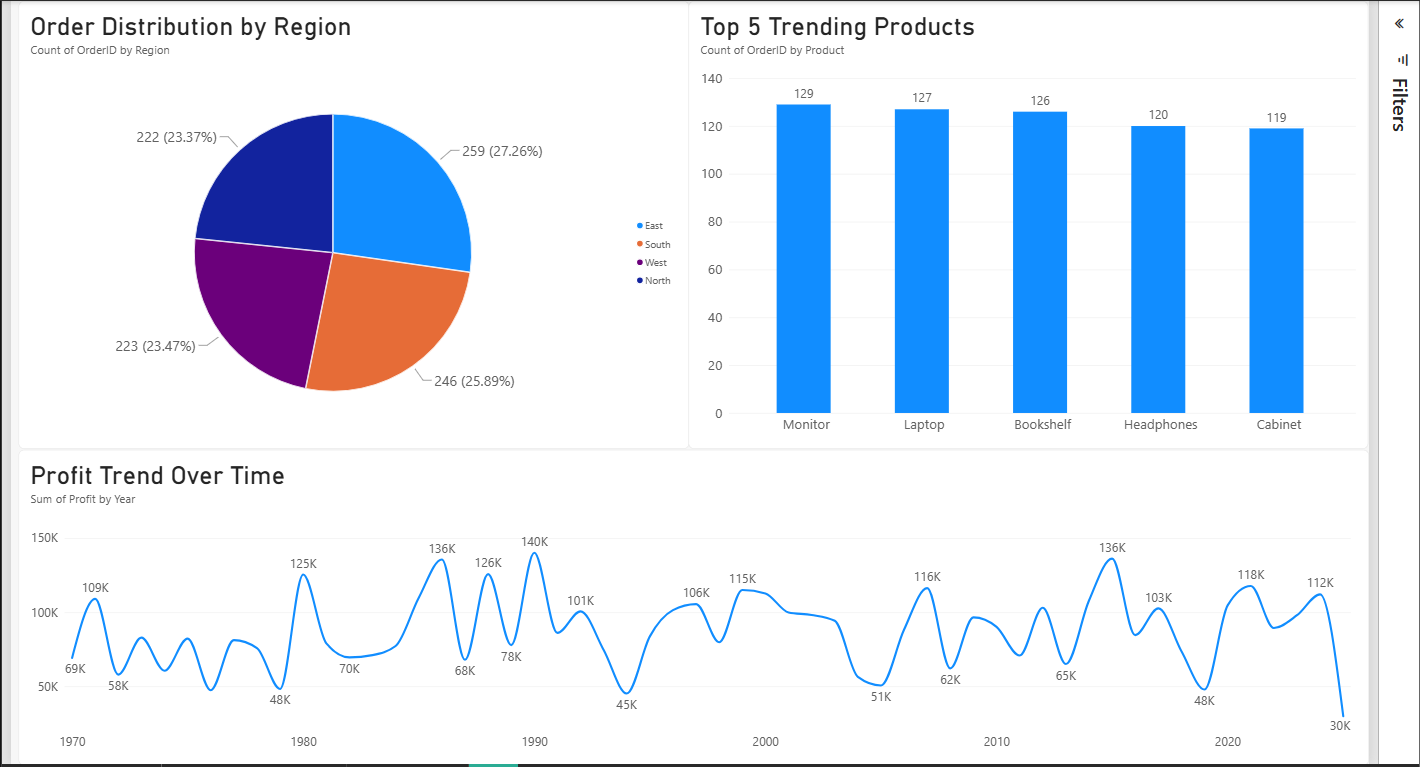

The page's visual inventory and layout, read from the dashboard file:
{"tool":"powerbi","page":{"name":"Visuals and Insights","canvas":[1920,1080],"ordinal":0},"visuals":[{"type":"pieChart","title":"Order Distribution by Region","fields":{"Category":["SalesData_1000Rows_WithIssues_copy.Region"],"Y":["CountNonNull(SalesData_1000Rows_WithIssues_copy.OrderID)"]},"box":[10.3,0,948.9,634],"z":0},{"type":"clusteredColumnChart","title":"Top 5 Trending Products","fields":{"Category":["SalesData_1000Rows_WithIssues_copy.Product"],"Y":["CountNonNull(SalesData_1000Rows_WithIssues_copy.OrderID)"]},"box":[959.2,0,961.2,634],"z":1},{"type":"lineChart","title":"Profit Trend Over Time","fields":{"Category":["SalesData_1000Rows_WithIssues_copy.OrderDate.Variation.Date Hierarchy.Year"],"Y":["Sum(SalesData_1000Rows_WithIssues_copy.Profit)"]},"box":[10.3,634,1910.1,446.7],"z":2}]}

Visuals, with their boxes on the page's 1920x1080 design canvas (x1, y1, x2, y2). These are canvas units, not pixel positions in the 1420x767 screenshot, which may show the page scaled, cropped or inside an application window:
"Order Distribution by Region" pieChart: {"x1": 10, "y1": 0, "x2": 959, "y2": 634}
"Top 5 Trending Products" clusteredColumnChart: {"x1": 959, "y1": 0, "x2": 1920, "y2": 634}
"Profit Trend Over Time" lineChart: {"x1": 10, "y1": 634, "x2": 1920, "y2": 1081}
